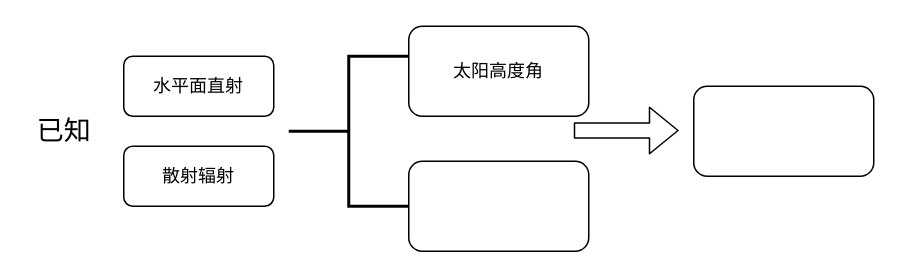
Some shapes in this 900 by 278 pixel diagram are drawn without their labels. The centre of each missing label's shape, as x and y in pixels:
倾斜面辐射总量: (x=783, y=130)
太阳方位角: (x=498, y=205)
